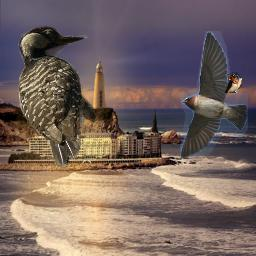Swallow: (180, 31, 248, 159), (225, 72, 242, 93)
Woodpecker: (18, 25, 102, 171)
